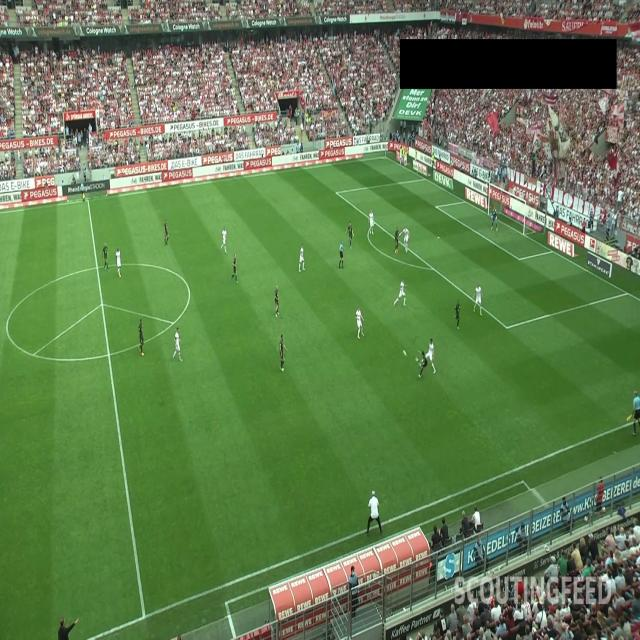ball: (403, 350, 407, 358)
goalkeeper: (490, 207, 498, 232)
player: (424, 338, 436, 375), (172, 327, 183, 362), (394, 279, 406, 308), (279, 334, 288, 372), (473, 283, 483, 316), (355, 306, 365, 338), (416, 350, 427, 378), (345, 220, 354, 249), (400, 227, 410, 253), (230, 254, 238, 283), (102, 242, 110, 271), (138, 318, 144, 356), (220, 226, 228, 253), (454, 299, 461, 329), (115, 247, 122, 277), (274, 284, 280, 317), (298, 244, 305, 272), (368, 210, 374, 234), (395, 227, 400, 254), (164, 220, 169, 245)
referee: (627, 391, 640, 436), (339, 239, 344, 269), (80, 180, 85, 202)
